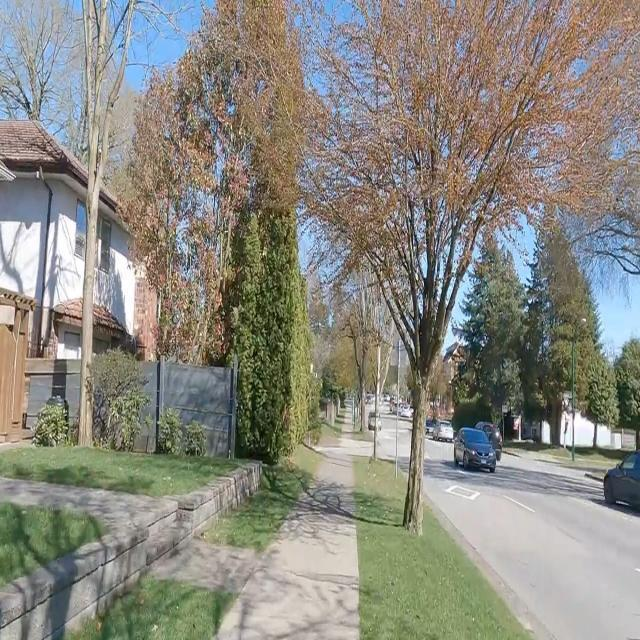Automobile: (604, 450, 639, 510), (453, 427, 495, 471), (433, 421, 452, 441), (368, 414, 375, 430)
Road: (426, 441, 639, 639), (378, 415, 409, 466), (317, 432, 371, 458)
Sidewalk: (217, 456, 358, 639), (150, 538, 258, 593)
